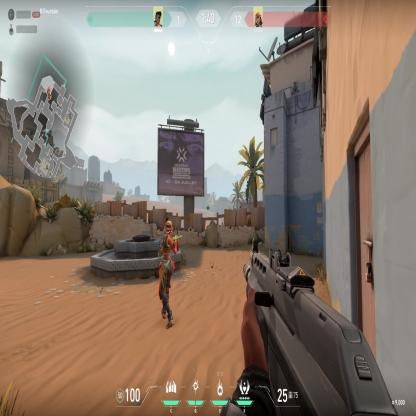enemy: (158, 217, 180, 331)
